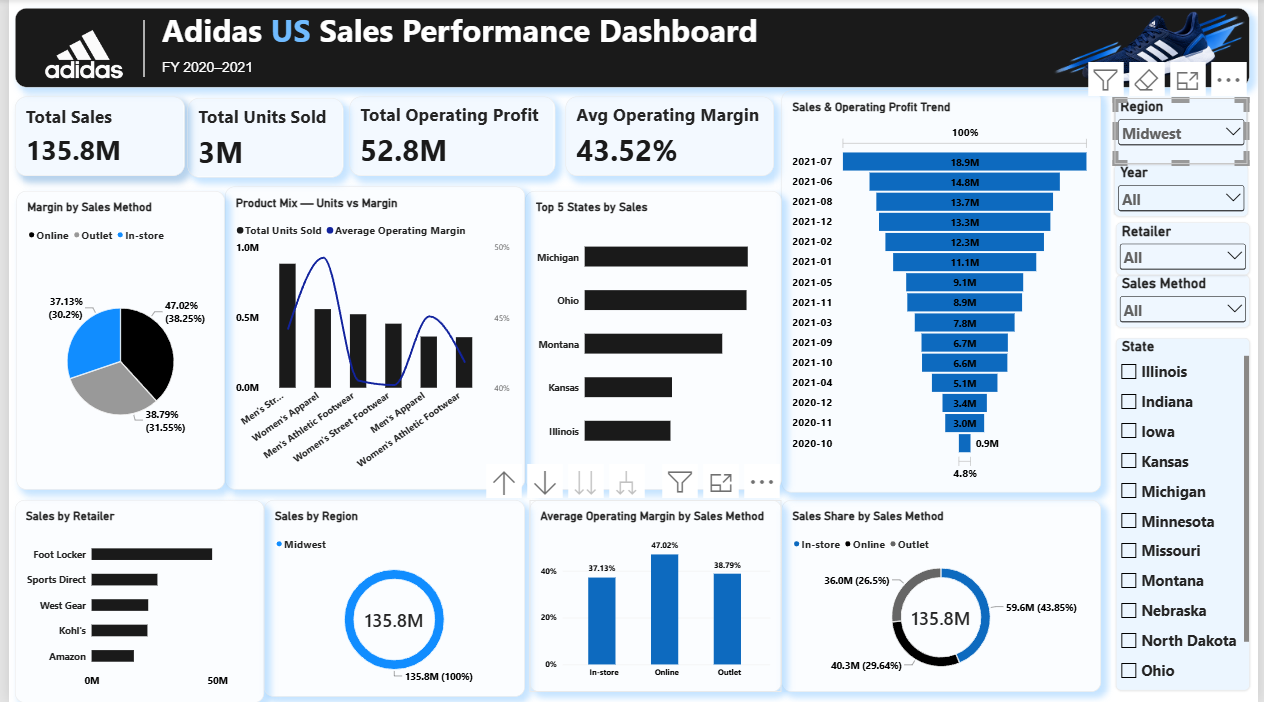

This screenshot's page, from the dashboard's own definition file:
{"tool":"powerbi","page":{"name":"Page 1","canvas":[1920,1080],"ordinal":0},"visuals":[{"type":"textbox","box":[9.2,13.8,1896.6,122.1],"z":0},{"type":"cardVisual","fields":{"Data":["Data Sales Adidas.Total Sales"]},"box":[9.2,149.8,260.4,122.1],"z":1000},{"type":"cardVisual","fields":{"Data":["Data Sales Adidas.Total Units Sold"]},"box":[274.2,152.1,239.7,122.1],"z":2000},{"type":"cardVisual","fields":{"Data":["Sum(Data Sales Adidas.Operating Profit)"]},"box":[523.1,149.8,315.7,122.1],"z":3000},{"type":"cardVisual","fields":{"Data":["Data Sales Adidas.Average Operating Margin"]},"box":[855,149.8,320.3,122.1],"z":4000},{"type":"image","box":[0,0,230.4,172.8],"z":5000},{"type":"image","box":[1603.9,4.6,299.6,131.4],"z":6000},{"type":"textbox","box":[235.1,92.2,156.7,36.9],"z":7000},{"type":"shape","box":[140.6,32.3,133.7,87.6],"z":8000},{"type":"slicer","fields":{"Values":["DateTable.Year"]},"box":[1698.4,253.5,205.1,80.7],"z":9000},{"type":"slicer","fields":{"Values":["Data Sales Adidas.Region"]},"box":[1698.4,152.1,205.1,101.4],"z":10000},{"type":"slicer","fields":{"Values":["Data Sales Adidas.Retailer"]},"box":[1700.7,343.4,205.1,80.7],"z":11000},{"type":"slicer","fields":{"Values":["Data Sales Adidas.Sales Method"]},"box":[1700.7,424,205.1,80.7],"z":12000},{"type":"funnel","title":"Sales & Operating Profit Trend","fields":{"Category":["DateTable.Year Month"],"Y":["Data Sales Adidas.Total Sales"]},"box":[1186.8,140.6,490.9,617.6],"z":13000},{"type":"clusteredBarChart","title":"Sales by Retailer","fields":{"Category":["Data Sales Adidas.Retailer"],"Y":["Data Sales Adidas.Total Sales"]},"box":[9.2,769.7,382.5,311.1],"z":14000},{"type":"donutChart","title":"Sales by Region","fields":{"Category":["Data Sales Adidas.Region"],"Y":["Data Sales Adidas.Total Sales"]},"box":[391.8,769.7,401,301.9],"z":15000},{"type":"barChart","title":"Top 5 States by Sales","fields":{"Category":["Data Sales Adidas.State"],"Y":["Data Sales Adidas.Total Sales"]},"box":[792.7,295,394.1,458.6],"z":16000},{"type":"lineClusteredColumnComboChart","title":"Product Mix — Units vs Margin","fields":{"Category":["Data Sales Adidas.Product"],"Y":["Data Sales Adidas.Total Units Sold"],"Y2":["Data Sales Adidas.Average Operating Margin"]},"box":[331.8,288.1,460.9,465.5],"z":17000},{"type":"donutChart","title":"Sales Share by Sales Method","fields":{"Category":["Data Sales Adidas.Sales Method"],"Y":["Data Sales Adidas.Total Sales"]},"box":[1186.8,769.7,490.9,295],"z":18000},{"type":"pieChart","title":"Margin by Sales Method","fields":{"Category":["Data Sales Adidas.Sales Method"],"Y":["Data Sales Adidas.Average Operating Margin"]},"box":[11.5,295,320.3,458.6],"z":19000},{"type":"clusteredColumnChart","fields":{"Category":["Data Sales Adidas.Retailer","Data Sales Adidas.Sales Method"],"Y":["Data Sales Adidas.Average Operating Margin"]},"box":[799.6,769.7,387.1,295],"z":20000},{"type":"slicer","fields":{"Values":["Data Sales Adidas.State"]},"box":[1700.7,520.8,205.1,541.5],"z":20001}]}

Visuals, with their boxes in screenshot pixels (x1, y1, x2, y2), scaled from the page's 1920x1080 canvas onto the 1264x702 screenshot:
textbox: <bbox>6, 9, 1255, 88</bbox>
cardVisual - Data Sales Adidas.Total Sales: <bbox>6, 97, 177, 177</bbox>
cardVisual - Data Sales Adidas.Total Units Sold: <bbox>181, 99, 338, 178</bbox>
cardVisual - Sum(Data Sales Adidas.Operating Profit): <bbox>344, 97, 552, 177</bbox>
cardVisual - Data Sales Adidas.Average Operating Margin: <bbox>563, 97, 774, 177</bbox>
image: <bbox>0, 0, 152, 112</bbox>
image: <bbox>1056, 3, 1253, 88</bbox>
textbox: <bbox>155, 60, 258, 84</bbox>
shape: <bbox>93, 21, 181, 78</bbox>
slicer - DateTable.Year: <bbox>1118, 165, 1253, 217</bbox>
slicer - Data Sales Adidas.Region: <bbox>1118, 99, 1253, 165</bbox>
slicer - Data Sales Adidas.Retailer: <bbox>1120, 223, 1255, 276</bbox>
slicer - Data Sales Adidas.Sales Method: <bbox>1120, 276, 1255, 328</bbox>
"Sales & Operating Profit Trend" funnel: <bbox>781, 91, 1104, 493</bbox>
"Sales by Retailer" clusteredBarChart: <bbox>6, 500, 258, 701</bbox>
"Sales by Region" donutChart: <bbox>258, 500, 522, 697</bbox>
"Top 5 States by Sales" barChart: <bbox>522, 192, 781, 490</bbox>
"Product Mix — Units vs Margin" lineClusteredColumnComboChart: <bbox>218, 187, 522, 490</bbox>
"Sales Share by Sales Method" donutChart: <bbox>781, 500, 1104, 692</bbox>
"Margin by Sales Method" pieChart: <bbox>8, 192, 218, 490</bbox>
clusteredColumnChart - Data Sales Adidas.Retailer x Data Sales Adidas.Sales Method: <bbox>526, 500, 781, 692</bbox>
slicer - Data Sales Adidas.State: <bbox>1120, 339, 1255, 690</bbox>
